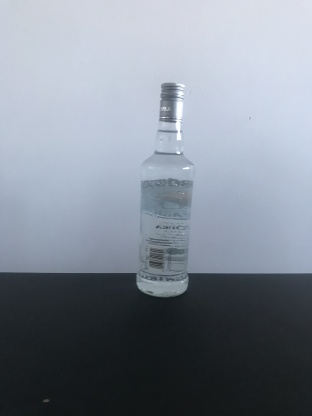nakretka: (158, 81, 185, 123)
